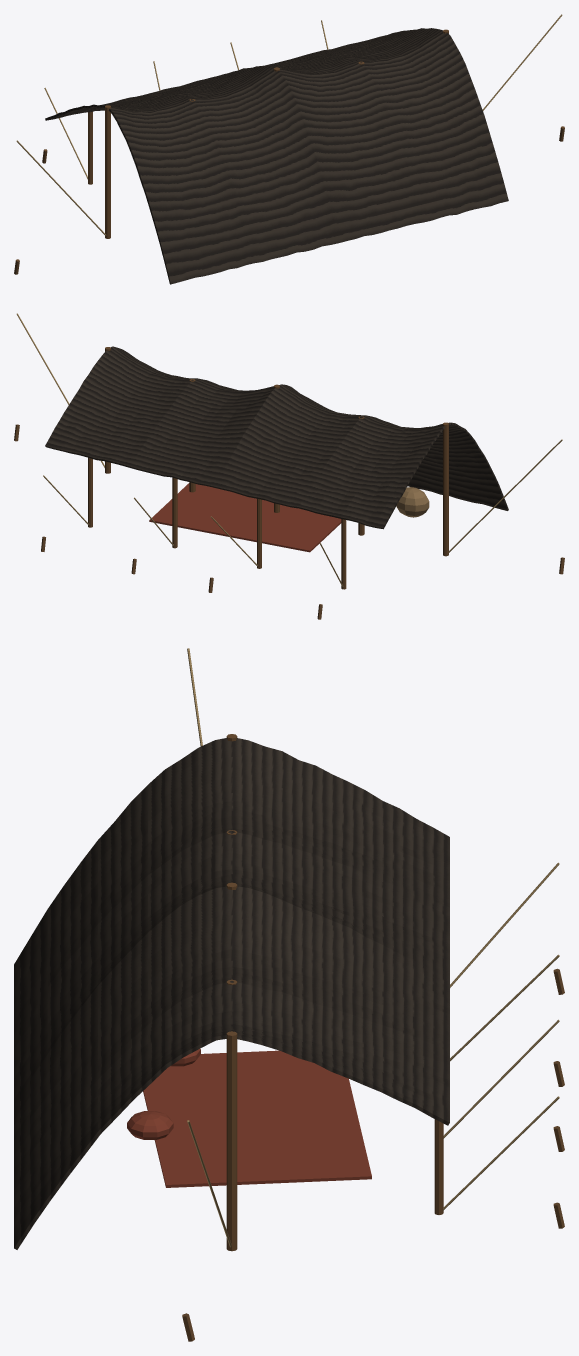
Rendered from blacktent.glb.
3 views of the same model, one above another, from view 1: azimuth 30°, elevation 25°; view 2: azimuth 150°, elevation 25°; view 3: azimuth 270°, elevation 25° (orthographic). The views are drawn at different scales.
Visible parts, largest first — view 1: Grid; view 2: Grid; view 3: Grid.
Boxes of the visible parts, <box> form: Grid: <box>14,14,564,284</box>; Grid: <box>14,313,564,619</box>; Grid: <box>14,648,564,1341</box>.
Bounding box in the file's own units: 10.07 × 2.35 × 5.06.
1 material, 1 textured.
